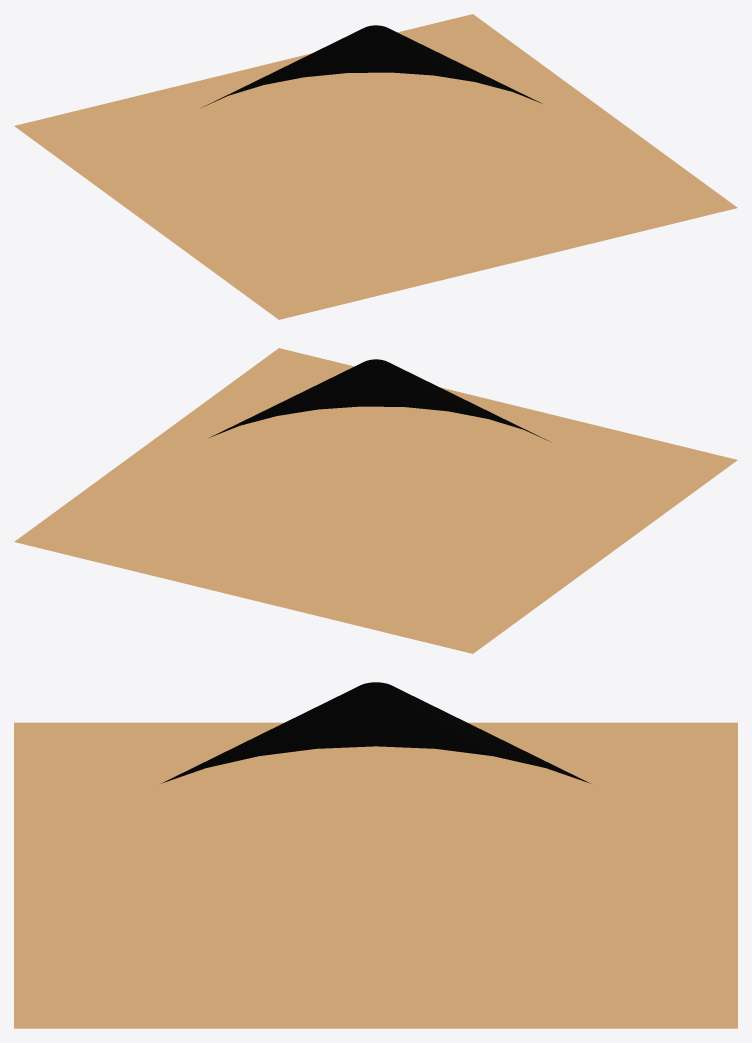
Rendered from Backdrop.fbx.
The picture shows the model from 3 angles, top to bottom: view 1: azimuth 30°, elevation 25°; view 2: azimuth 150°, elevation 25°; view 3: azimuth 270°, elevation 25°; orthographic projection. The views are drawn at different scales.
Parts seen in each view (by area): view 1: Backdrop; view 2: Backdrop; view 3: Backdrop.
Part boxes in pixels (x1,y1,x2,y2): Backdrop: (14,14,737,319); Backdrop: (14,348,737,653); Backdrop: (14,682,737,1028).
Size of the model in its own units: 33017 by 9400 by 33017.
